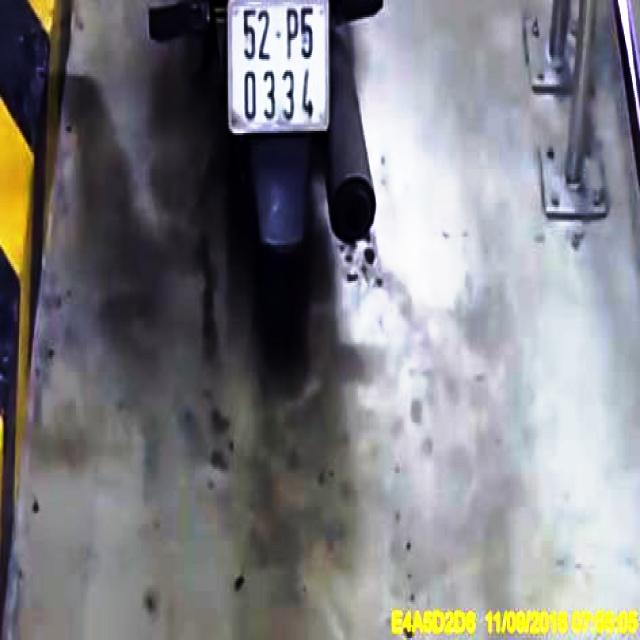license_plate: (231, 1, 329, 134)
